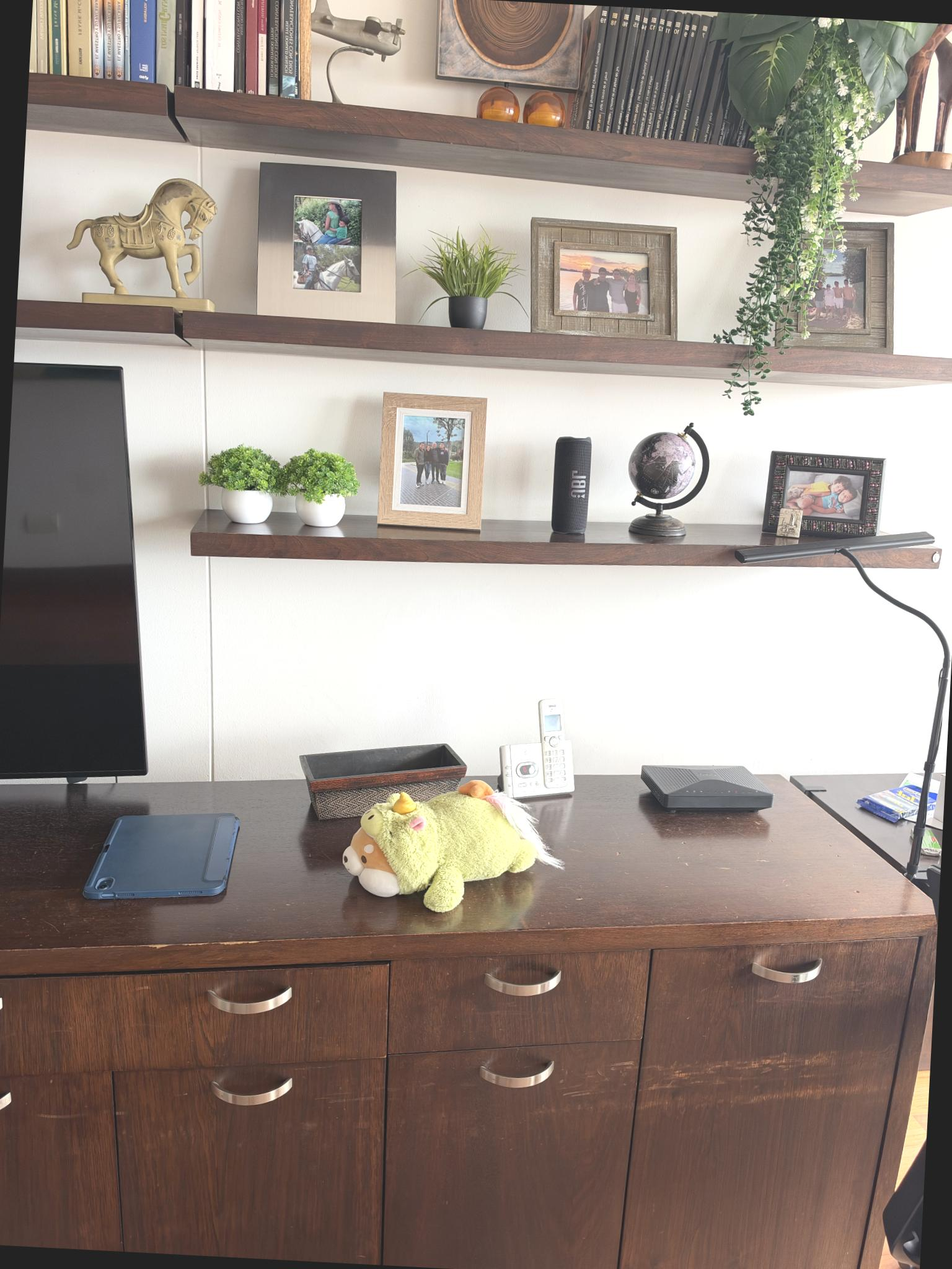peluche_martin: (339, 772, 569, 919)
